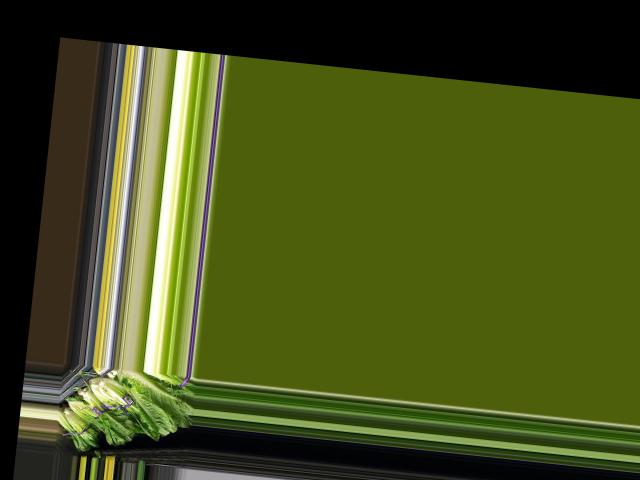lettuce: (113, 372, 194, 434)
